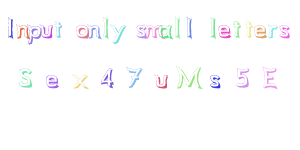4: (99, 67, 116, 89)
5: (235, 65, 250, 88)
7: (126, 66, 143, 89)
E: (261, 65, 279, 89)
I: (3, 15, 21, 40)
M: (175, 65, 203, 89)
S: (16, 66, 33, 88)
a: (157, 21, 172, 41)
e: (44, 73, 60, 88), (217, 23, 231, 39), (254, 24, 266, 39)
l: (171, 15, 182, 39), (184, 15, 194, 39), (100, 15, 110, 38), (207, 14, 216, 39)
m: (144, 22, 162, 40)
n: (15, 23, 29, 40), (87, 24, 100, 39)
o: (73, 24, 88, 40)
p: (27, 23, 42, 47)
r: (267, 22, 278, 38)
s: (208, 74, 222, 89), (279, 22, 291, 39), (134, 24, 147, 38)
t: (231, 16, 241, 38), (53, 18, 62, 38), (243, 19, 253, 37)
u: (154, 72, 169, 90), (39, 23, 54, 39)
x: (72, 74, 90, 89)
y: (110, 24, 126, 45)
